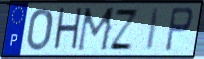H: (51, 6, 84, 54)
I: (145, 7, 162, 53)
M: (75, 6, 117, 54)
O: (25, 7, 55, 53)
P: (163, 6, 194, 54)
Z: (108, 7, 141, 52)
